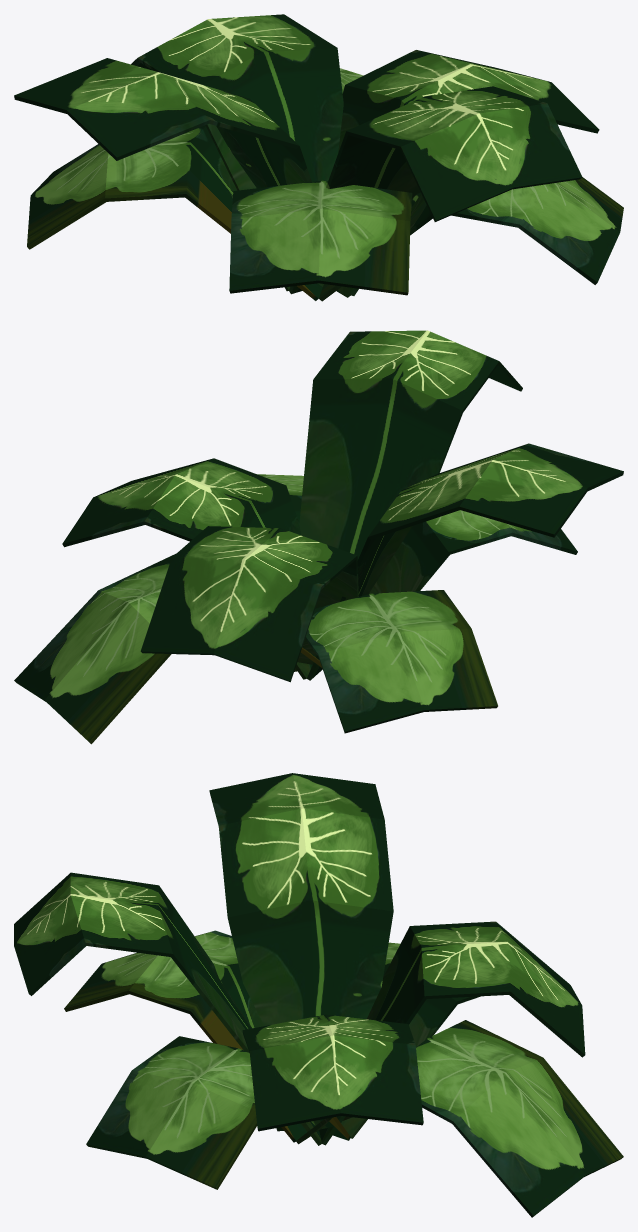
The model's file is AlocasiaPlant1.fbx.
3 views of the same model, one above another, from view 1: azimuth 30°, elevation 25°; view 2: azimuth 150°, elevation 25°; view 3: azimuth 270°, elevation 25° (orthographic). The views are drawn at different scales.
Parts seen in each view (by area): view 1: AlocasiaPlant1; view 2: AlocasiaPlant1; view 3: AlocasiaPlant1.
Boxes of the visible parts, x1,y1,x2,y2 form: AlocasiaPlant1: (14,14,623,301); AlocasiaPlant1: (14,330,623,744); AlocasiaPlant1: (14,773,623,1217).
Size of the model in its own units: 1.35 by 0.6437 by 1.46.
